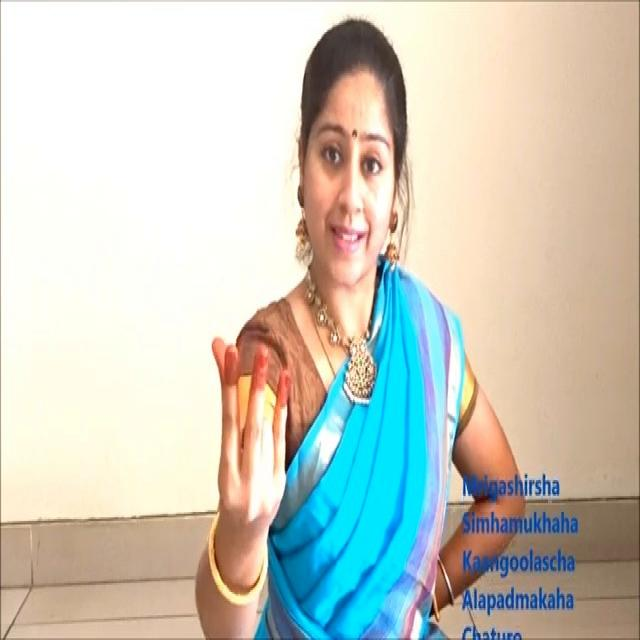Kangula: (190, 302, 305, 561)
lady: (284, 27, 422, 284)
text: (456, 470, 583, 640)
